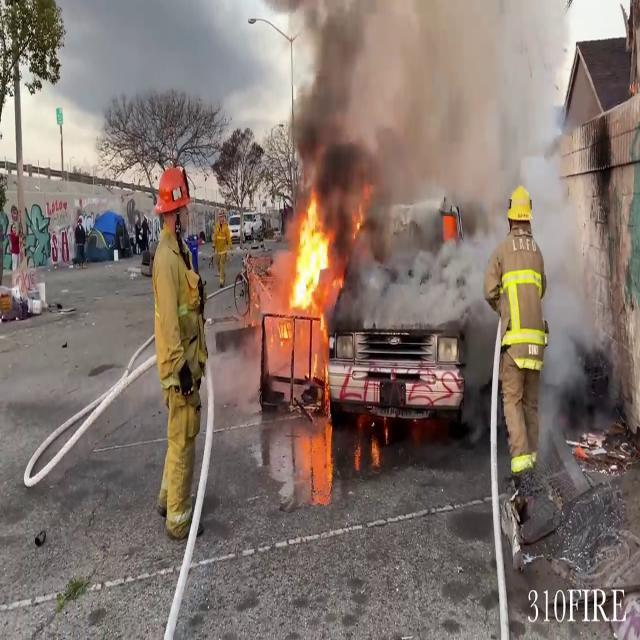Fire: (281, 192, 341, 315)
Smoke: (281, 0, 610, 205)
